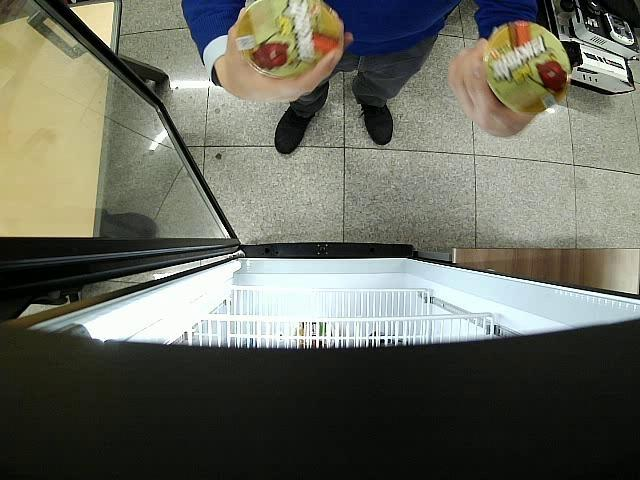04_chapagetti_S: (235, 0, 342, 78), (484, 21, 572, 114)
